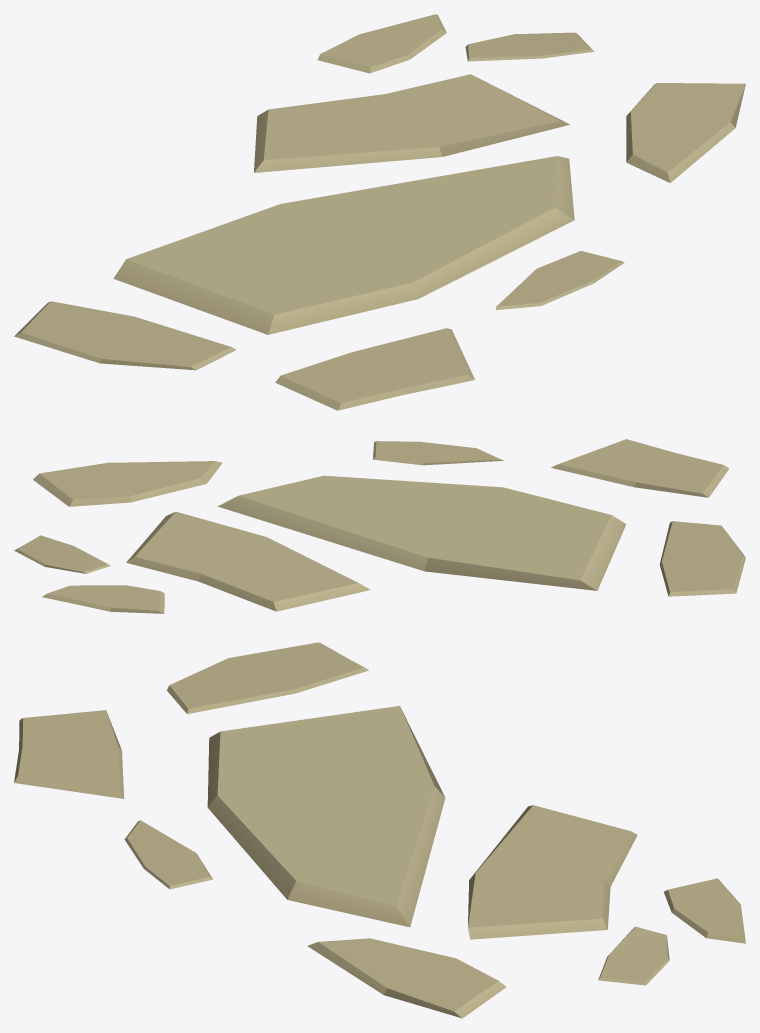
File: Rock_Medium_2.fbx
3 views of the same model, one above another, from view 1: azimuth 30°, elevation 25°; view 2: azimuth 150°, elevation 25°; view 3: azimuth 270°, elevation 25° (orthographic). The views are drawn at different scales.
Parts seen in each view (by area): view 1: rocks_medium_2; view 2: rocks_medium_2; view 3: rocks_medium_2.
Boxes of the visible parts, left/top/right/bottom form: rocks_medium_2: left=14, top=14, right=745, bottom=410; rocks_medium_2: left=14, top=439, right=745, bottom=613; rocks_medium_2: left=14, top=642, right=745, bottom=1018.
Bounding box in the file's own units: 515 × 7.94 × 424.
Materials: 1 (1 with a texture image).
